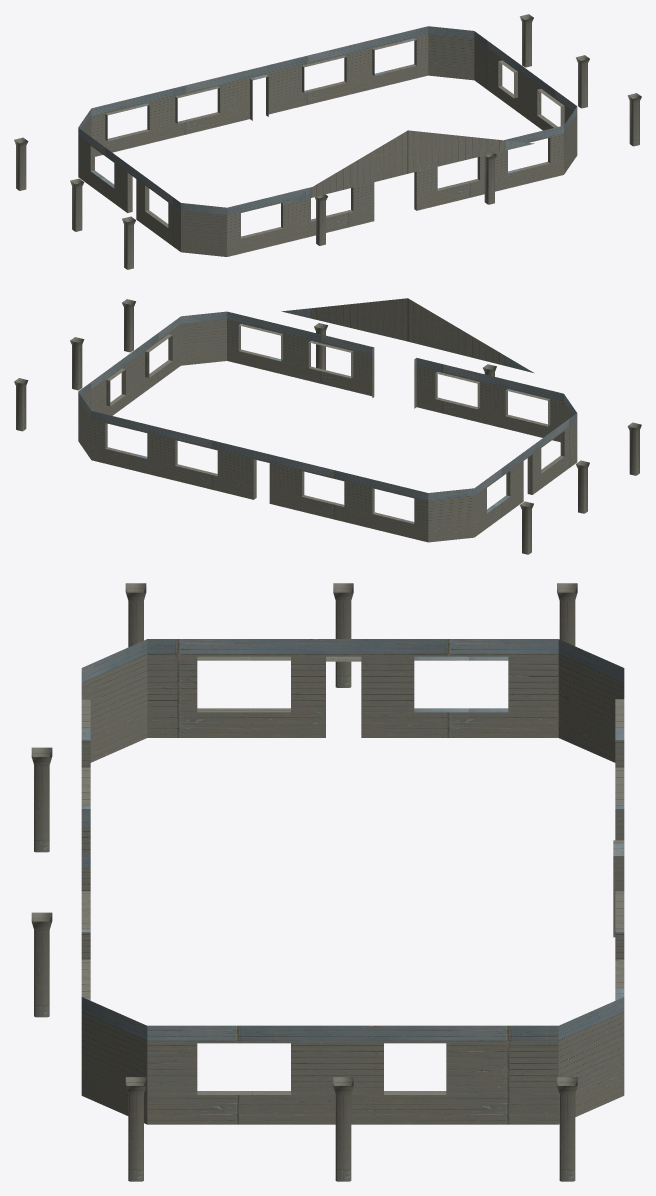
The model's file is rural_woodenbuilding_4_rural_walltrim_1_0_lev2.glb.
3 renders of one model, top to bottom at view 1: azimuth 30°, elevation 25°; view 2: azimuth 150°, elevation 25°; view 3: azimuth 270°, elevation 25°, orthographic. The views are drawn at different scales.
Parts seen in each view (by area): view 1: rural_woodenbuilding_4_rural_walltrim_1_0_lev2; view 2: rural_woodenbuilding_4_rural_walltrim_1_0_lev2; view 3: rural_woodenbuilding_4_rural_walltrim_1_0_lev2.
Boxes of the visible parts, x1,y1,x2,y2 form: rural_woodenbuilding_4_rural_walltrim_1_0_lev2: [14, 14, 641, 269]; rural_woodenbuilding_4_rural_walltrim_1_0_lev2: [14, 298, 641, 554]; rural_woodenbuilding_4_rural_walltrim_1_0_lev2: [31, 583, 624, 1181].
Bounding box in the file's own units: 19.09 × 3.36 × 9.51.
Materials: 1 (1 with a texture image).
